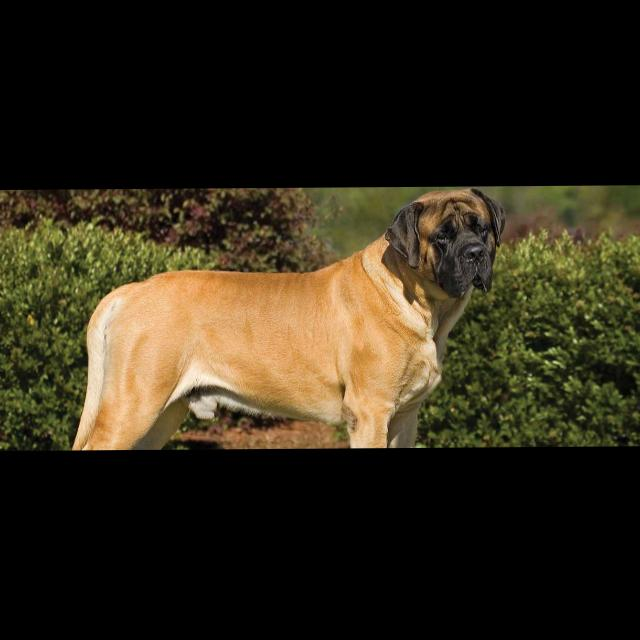mastiff: (71, 188, 507, 451)
